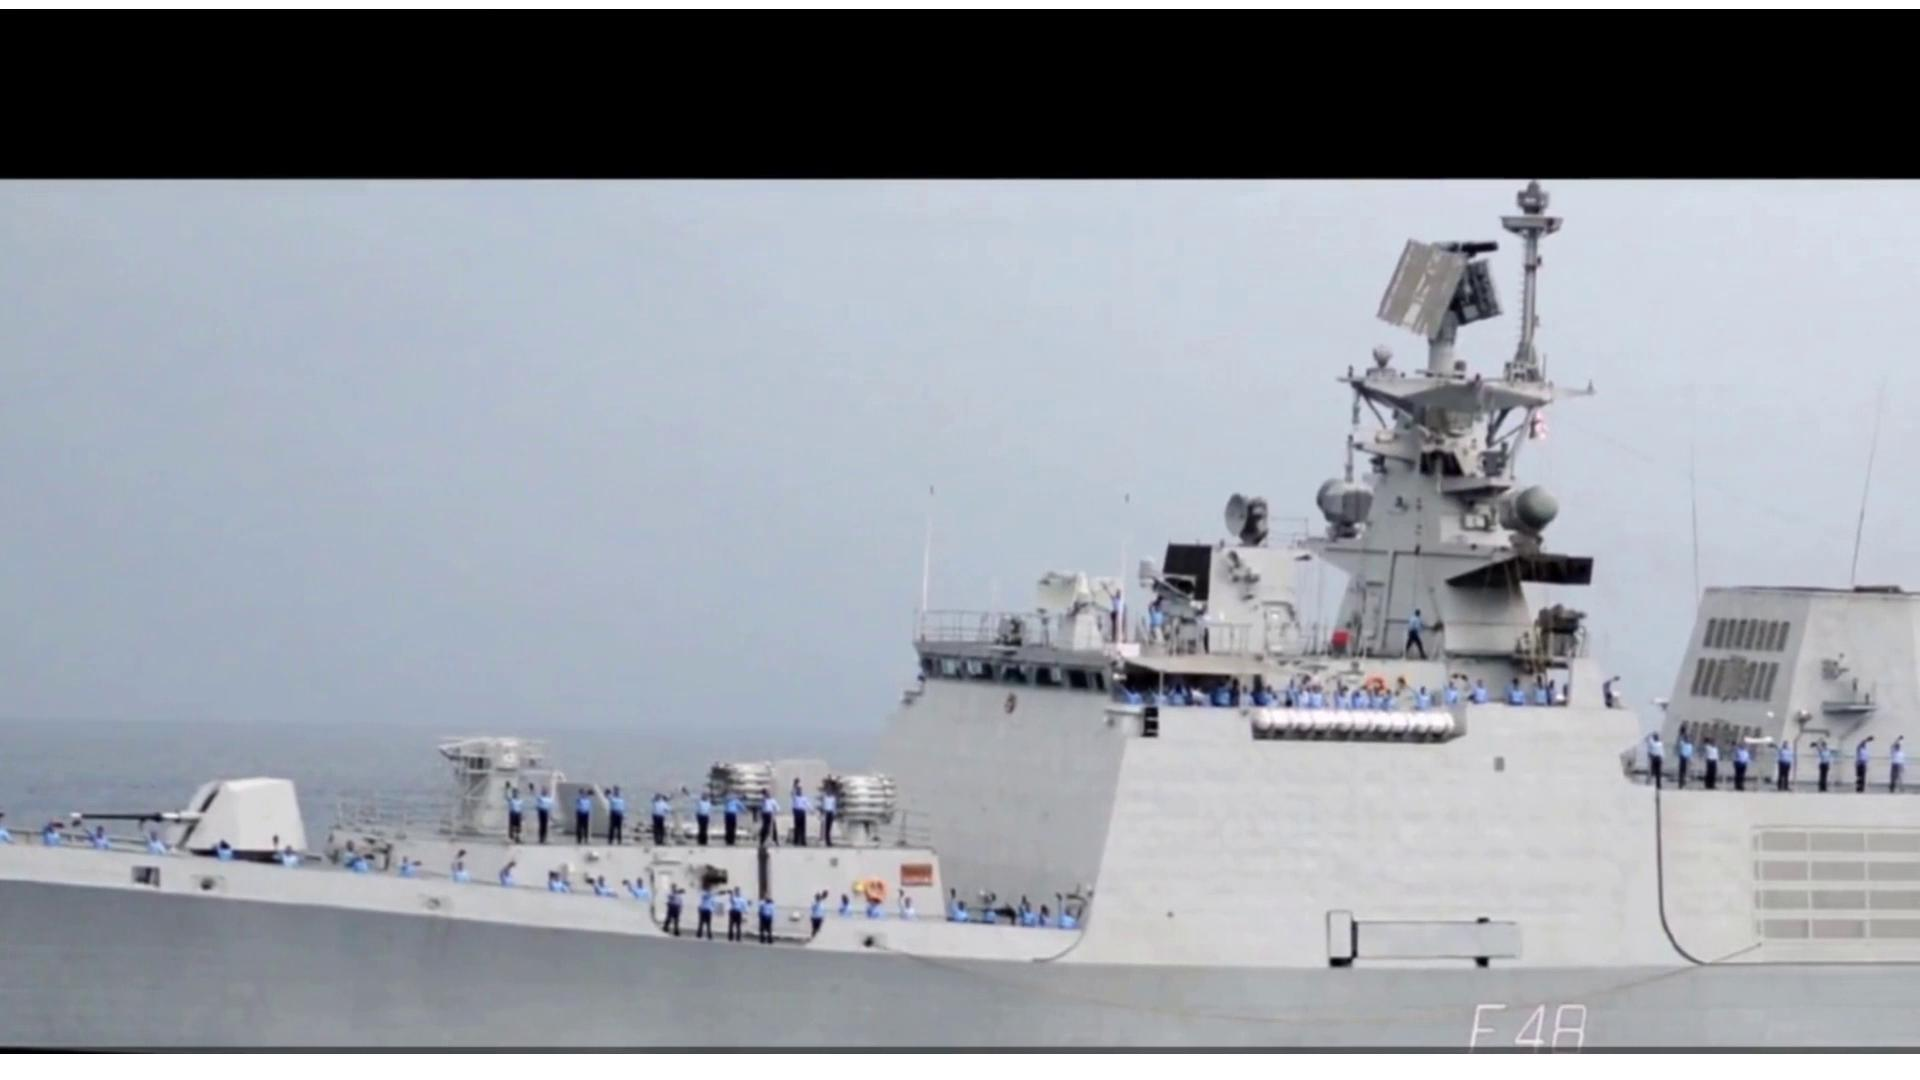OCR: (1448, 990, 1606, 1052)
